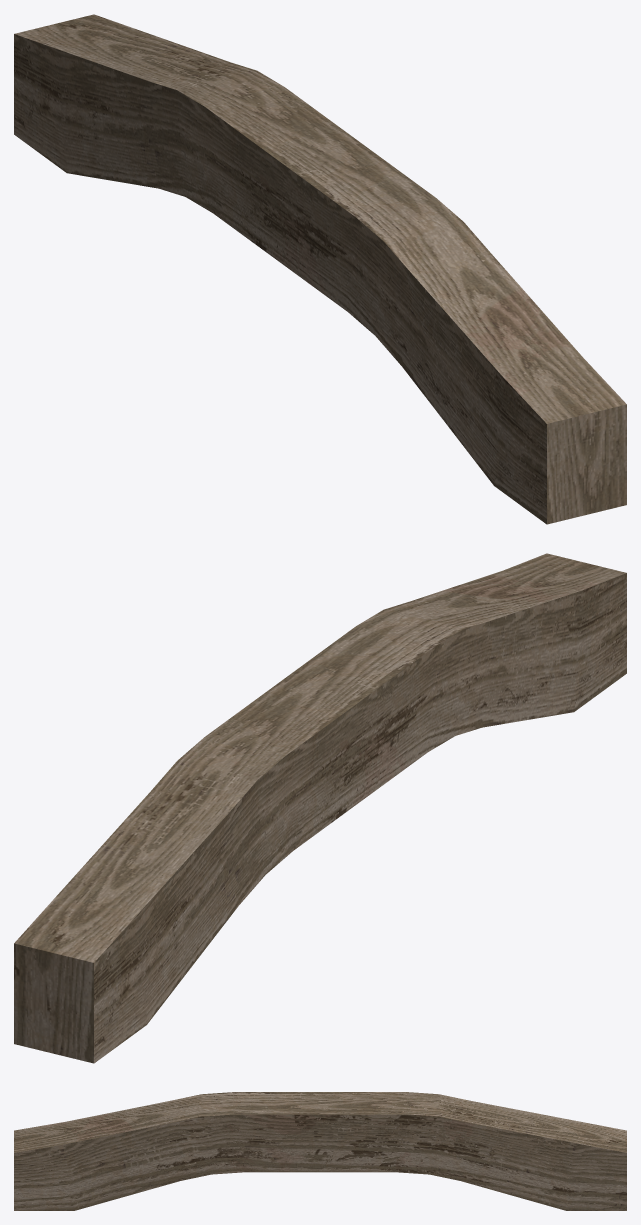
3 views of the same model, one above another, from view 1: azimuth 30°, elevation 25°; view 2: azimuth 150°, elevation 25°; view 3: azimuth 270°, elevation 25° (orthographic). The views are drawn at different scales.
Parts seen in each view (by area): view 1: SM_CJ_Bo; view 2: SM_CJ_Bo; view 3: SM_CJ_Bo.
Boxes of the visible parts, left/top/right/bottom form: SM_CJ_Bo: left=14, top=14, right=626, bottom=524; SM_CJ_Bo: left=14, top=553, right=626, bottom=1063; SM_CJ_Bo: left=14, top=1092, right=626, bottom=1210.
Bounding box in the file's own units: 25 × 288 × 49.94.
Materials: 1 (1 with a texture image).
